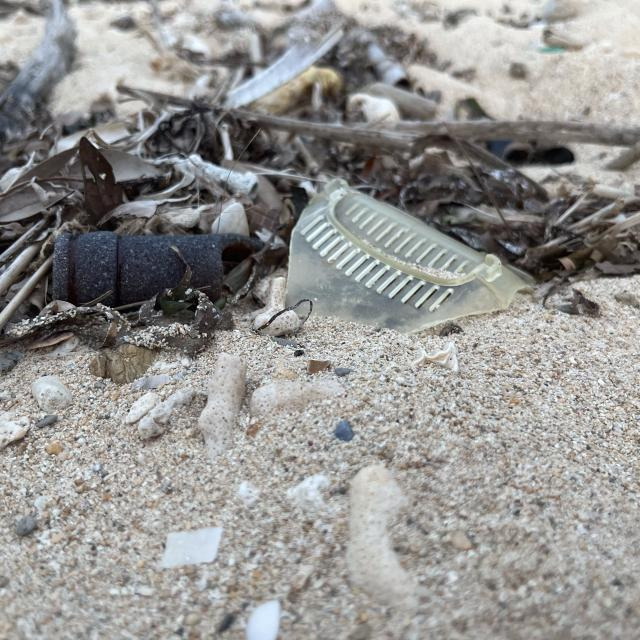coral: (338, 452, 420, 621), (202, 348, 247, 454)
seaweed: (3, 71, 640, 340)
stick: (124, 75, 640, 183)
trash: (284, 173, 518, 346), (54, 225, 274, 312)
